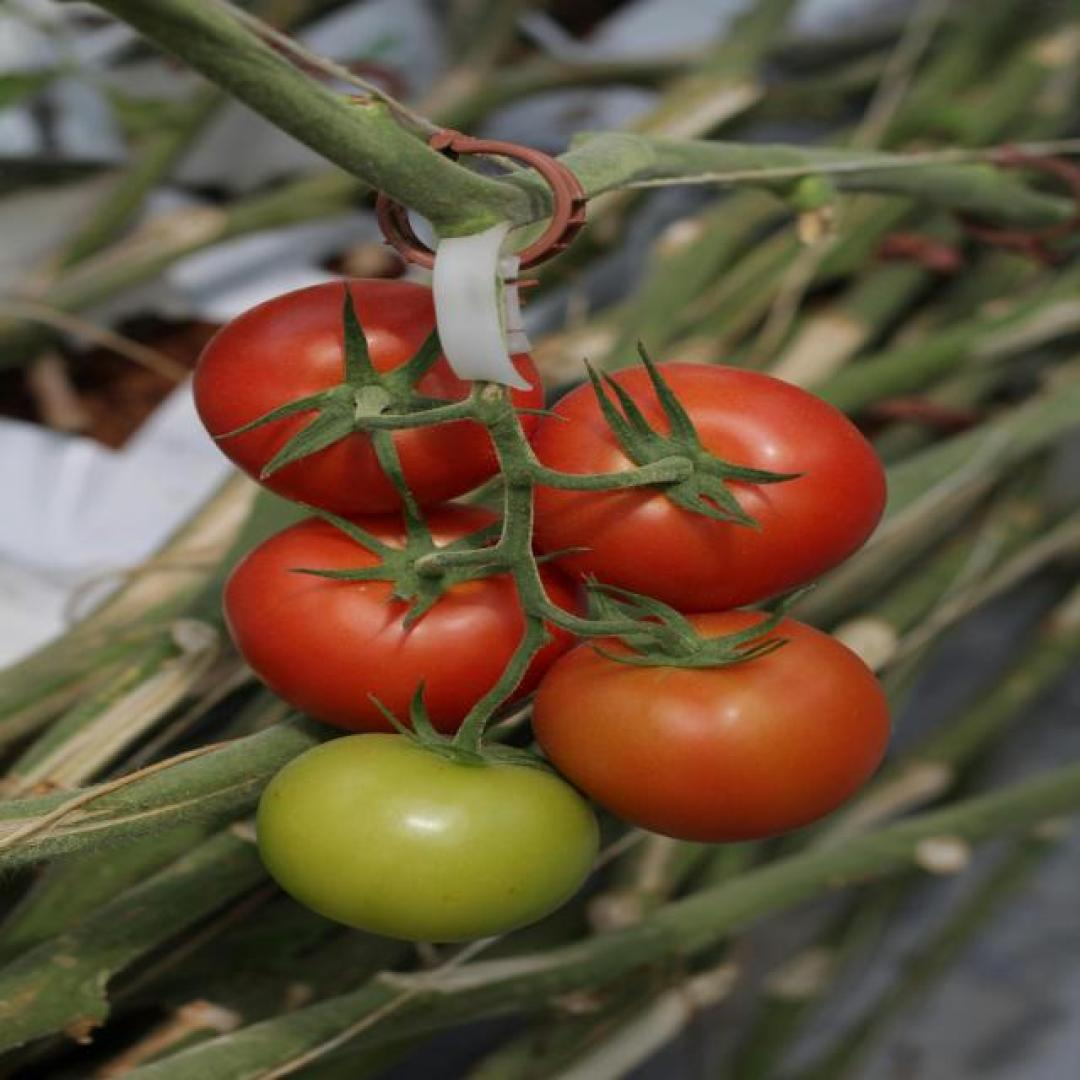matang: (510, 363, 894, 614), (215, 501, 598, 739), (184, 276, 548, 509)
mentah: (256, 732, 606, 945)
setengah_matang: (532, 607, 892, 849)
